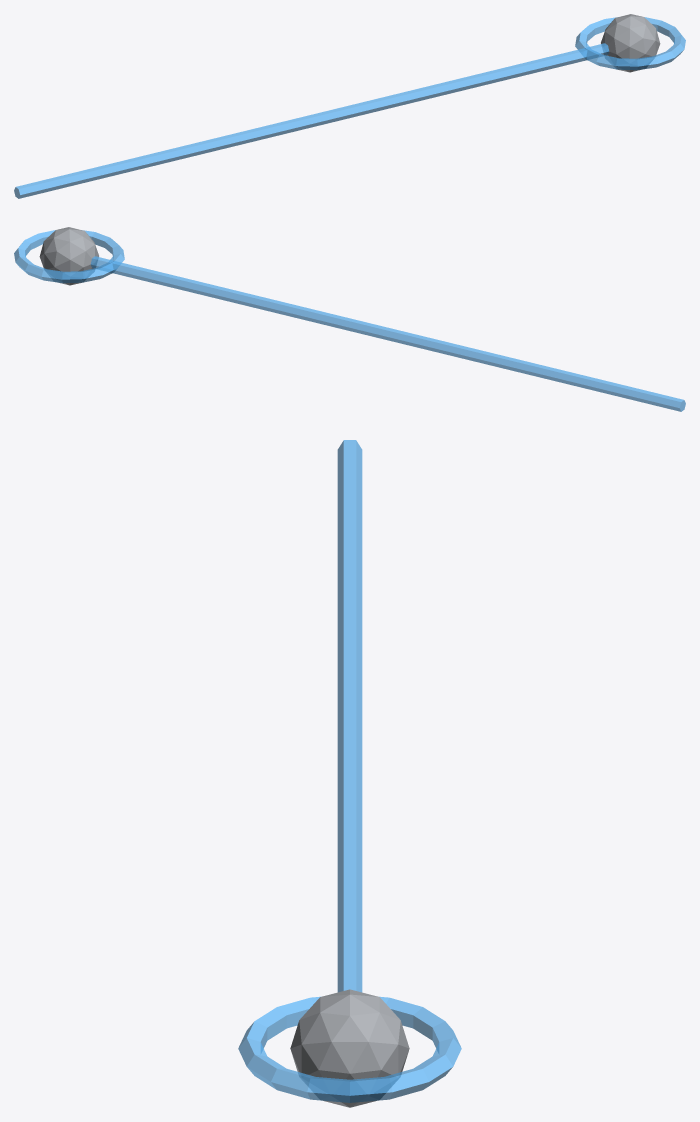
Rendered from vfx_grapple_line.glb.
3 views of the same model, one above another, from view 1: azimuth 30°, elevation 25°; view 2: azimuth 150°, elevation 25°; view 3: azimuth 270°, elevation 25° (orthographic). The views are drawn at different scales.
Parts seen in each view (by area): view 1: line, hook, anchor_ring; view 2: line, hook, anchor_ring; view 3: line, hook, anchor_ring.
Boxes of the visible parts, left/top/right/bottom form: line: left=14, top=43, right=609, bottom=198; hook: left=601, top=14, right=660, bottom=72; anchor_ring: left=575, top=17, right=685, bottom=70; line: left=90, top=256, right=685, bottom=411; hook: left=39, top=227, right=98, bottom=285; anchor_ring: left=14, top=230, right=124, bottom=283; line: left=337, top=440, right=362, bottom=992; hook: left=290, top=989, right=409, bottom=1107; anchor_ring: left=238, top=996, right=461, bottom=1102.
Bounding box in the file's own units: 3.07 × 0.24 × 0.45.
